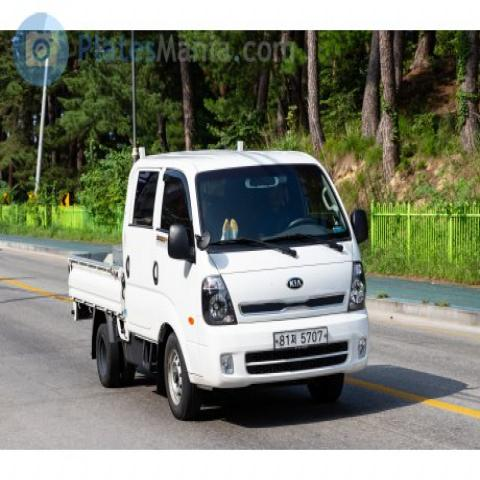LP: (270, 318, 334, 353)
